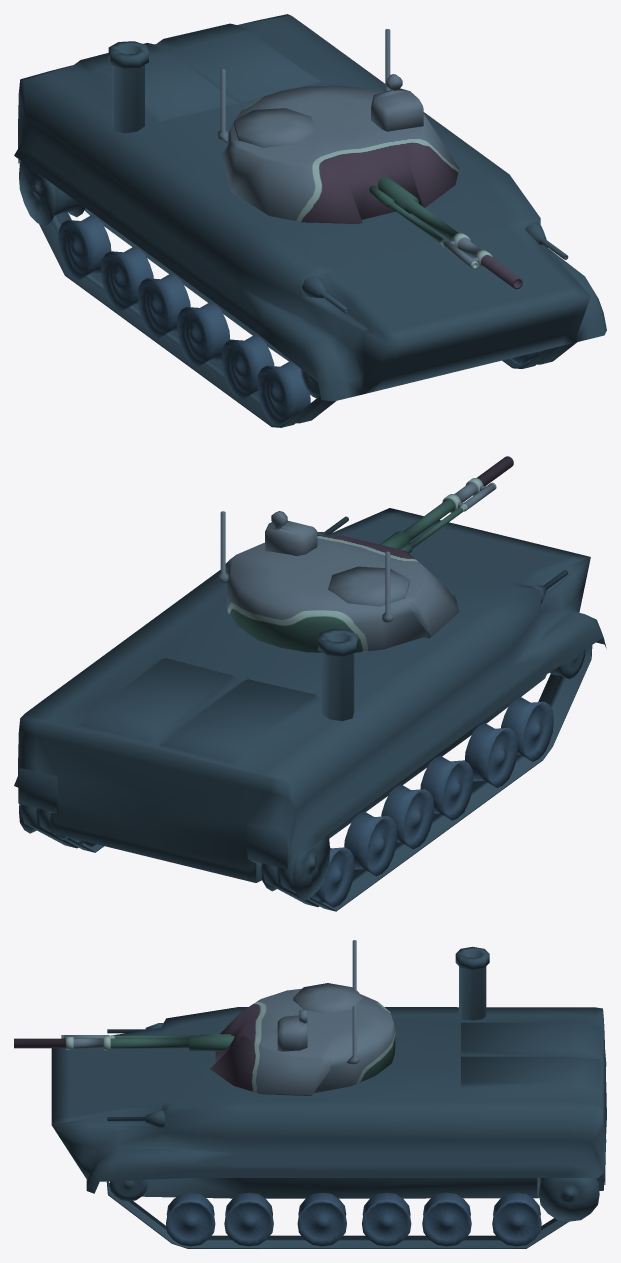
File: bmp3f.fbx
3 renders of one model, top to bottom at view 1: azimuth 30°, elevation 25°; view 2: azimuth 150°, elevation 25°; view 3: azimuth 270°, elevation 25°, orthographic. The views are drawn at different scales.
Visible parts, largest first — view 1: BMP_Main_Body, BMP_Upper_Body; view 2: BMP_Main_Body, BMP_Upper_Body; view 3: BMP_Main_Body, BMP_Upper_Body.
Part boxes in pixels (x1=…): BMP_Main_Body: x1=14, y1=14, x2=606, y2=427; BMP_Upper_Body: x1=217, y1=29, x2=522, y2=289; BMP_Main_Body: x1=14, y1=508, x2=606, y2=911; BMP_Upper_Body: x1=217, y1=456, x2=513, y2=652; BMP_Main_Body: x1=51, y1=946, x2=606, y2=1248; BMP_Upper_Body: x1=14, y1=940, x2=395, y2=1095.
Size of the model in its own units: 5.14 by 4.65 by 11.27.
